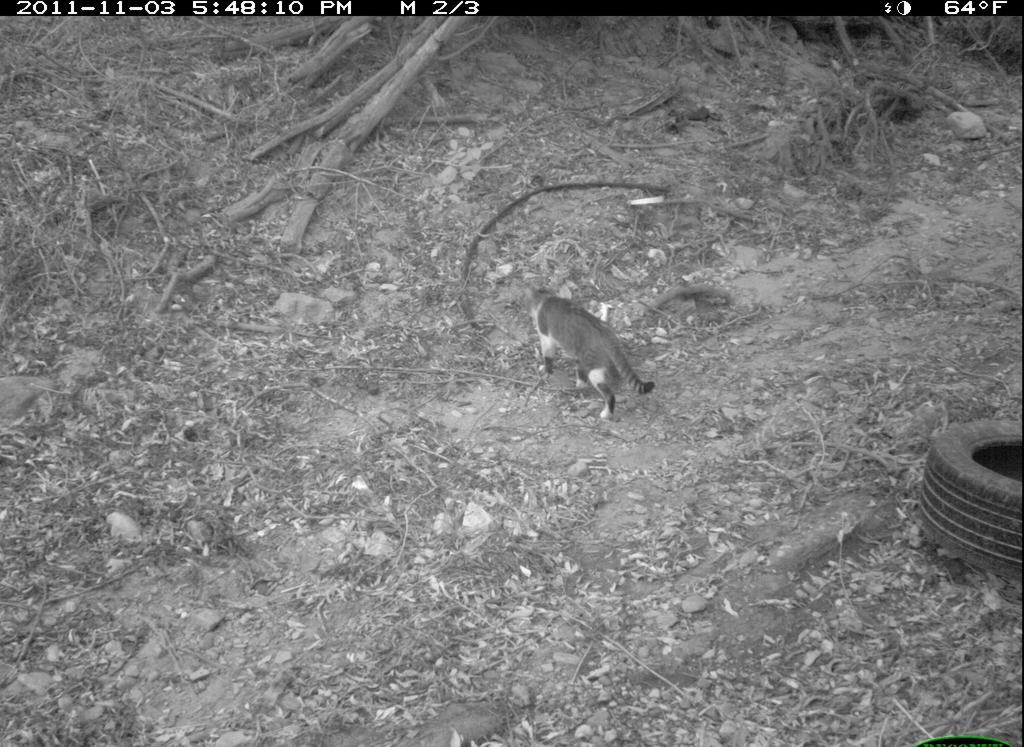cat: (521, 277, 661, 429)
